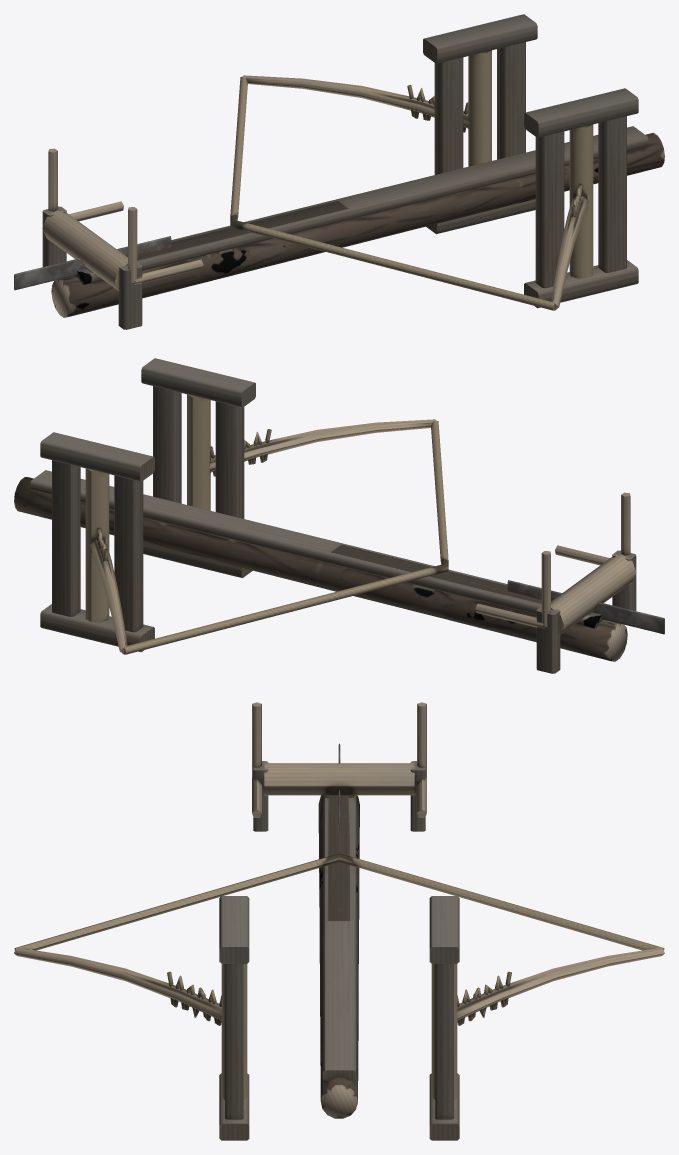
File: SM_FireBallista_Frame.fbx
3 renders of one model, top to bottom at view 1: azimuth 30°, elevation 25°; view 2: azimuth 150°, elevation 25°; view 3: azimuth 270°, elevation 25°, orthographic. The views are drawn at different scales.
Parts seen in each view (by area): view 1: SM_FireBallista_Frame; view 2: SM_FireBallista_Frame; view 3: SM_FireBallista_Frame.
Boxes of the visible parts, x1=… form: SM_FireBallista_Frame: x1=14, y1=14, x2=664, y2=329; SM_FireBallista_Frame: x1=14, y1=358, x2=664, y2=673; SM_FireBallista_Frame: x1=14, y1=702, x2=664, y2=1140.
Size of the model in its own units: 205 by 173 by 57.
